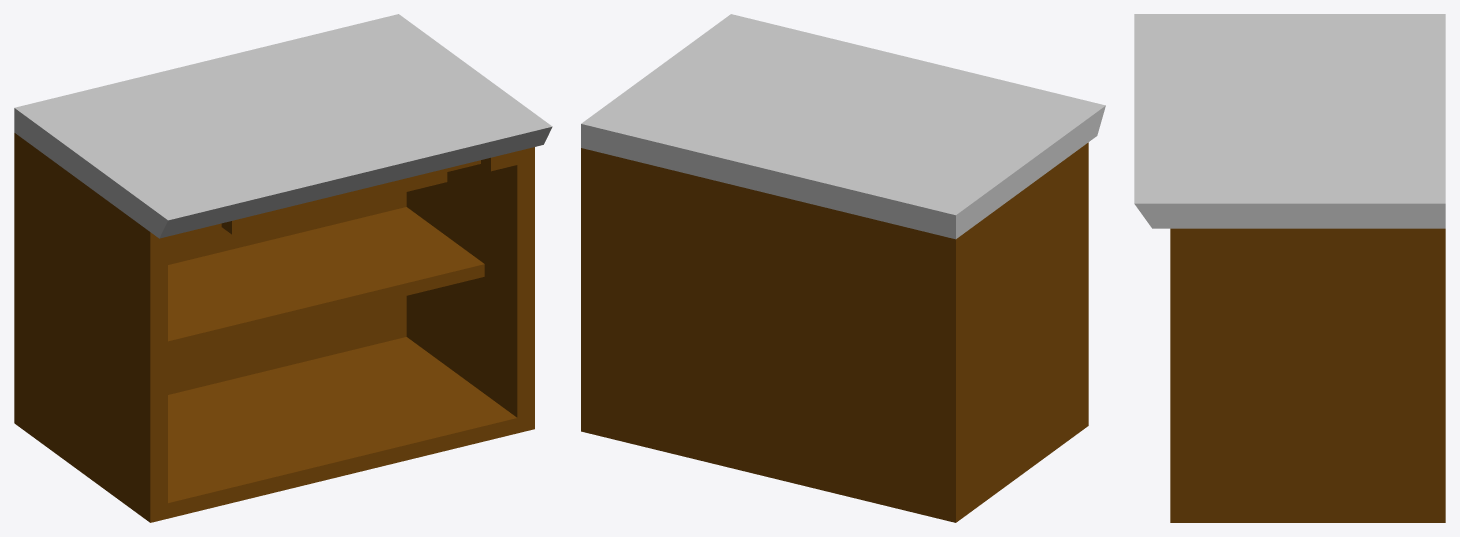
The model's file is High_Cupboard_2.fbx.
3 views of the same model, side by side, from view 1: azimuth 30°, elevation 25°; view 2: azimuth 150°, elevation 25°; view 3: azimuth 270°, elevation 25° (orthographic). The views are drawn at different scales.
Parts seen in each view (by area): view 1: Cube.129; view 2: Cube.129; view 3: Cube.129.
Boxes of the visible parts, <box> form: Cube.129: <box>14,14,552,522</box>; Cube.129: <box>581,14,1105,522</box>; Cube.129: <box>1134,14,1445,522</box>.
Size of the model in its own units: 101 by 78.82 by 69.68.
